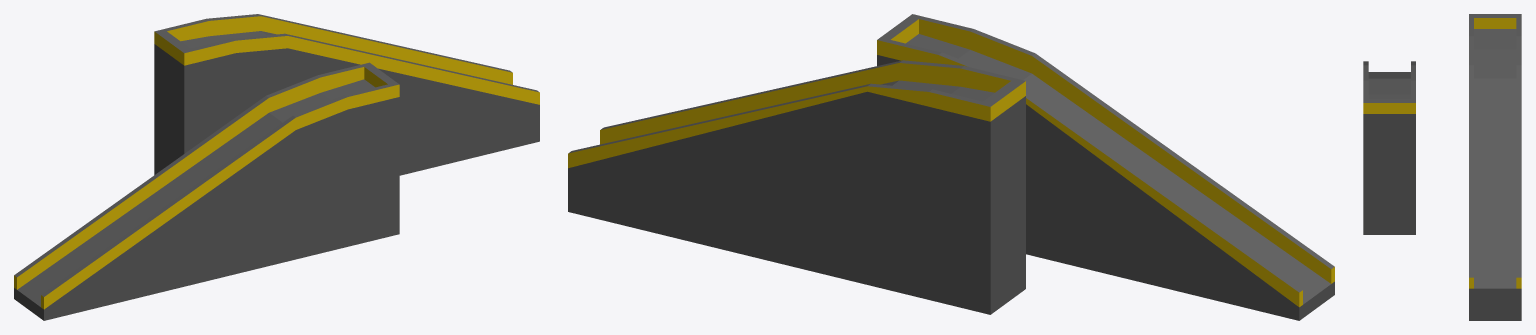
File: SM_SM_TRILL_01.fbx
3 renders of one model, left to right at view 1: azimuth 30°, elevation 25°; view 2: azimuth 150°, elevation 25°; view 3: azimuth 270°, elevation 25°, orthographic. The views are drawn at different scales.
Parts seen in each view (by area): view 1: SM_TRILL_01; view 2: SM_TRILL_01; view 3: SM_TRILL_01.
Boxes of the visible parts, x1=… form: SM_TRILL_01: x1=14, y1=14, x2=539, y2=320; SM_TRILL_01: x1=568, y1=14, x2=1334, y2=320; SM_TRILL_01: x1=1363, y1=14, x2=1521, y2=320.
Size of the model in its own units: 715 by 215 by 200.
